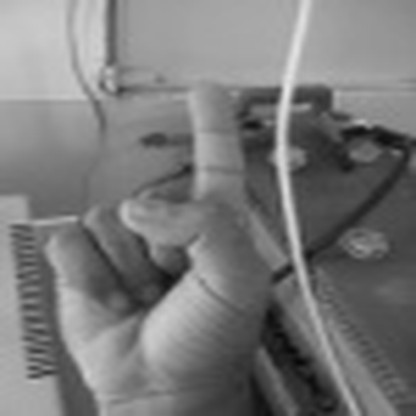d: (38, 72, 264, 416)
